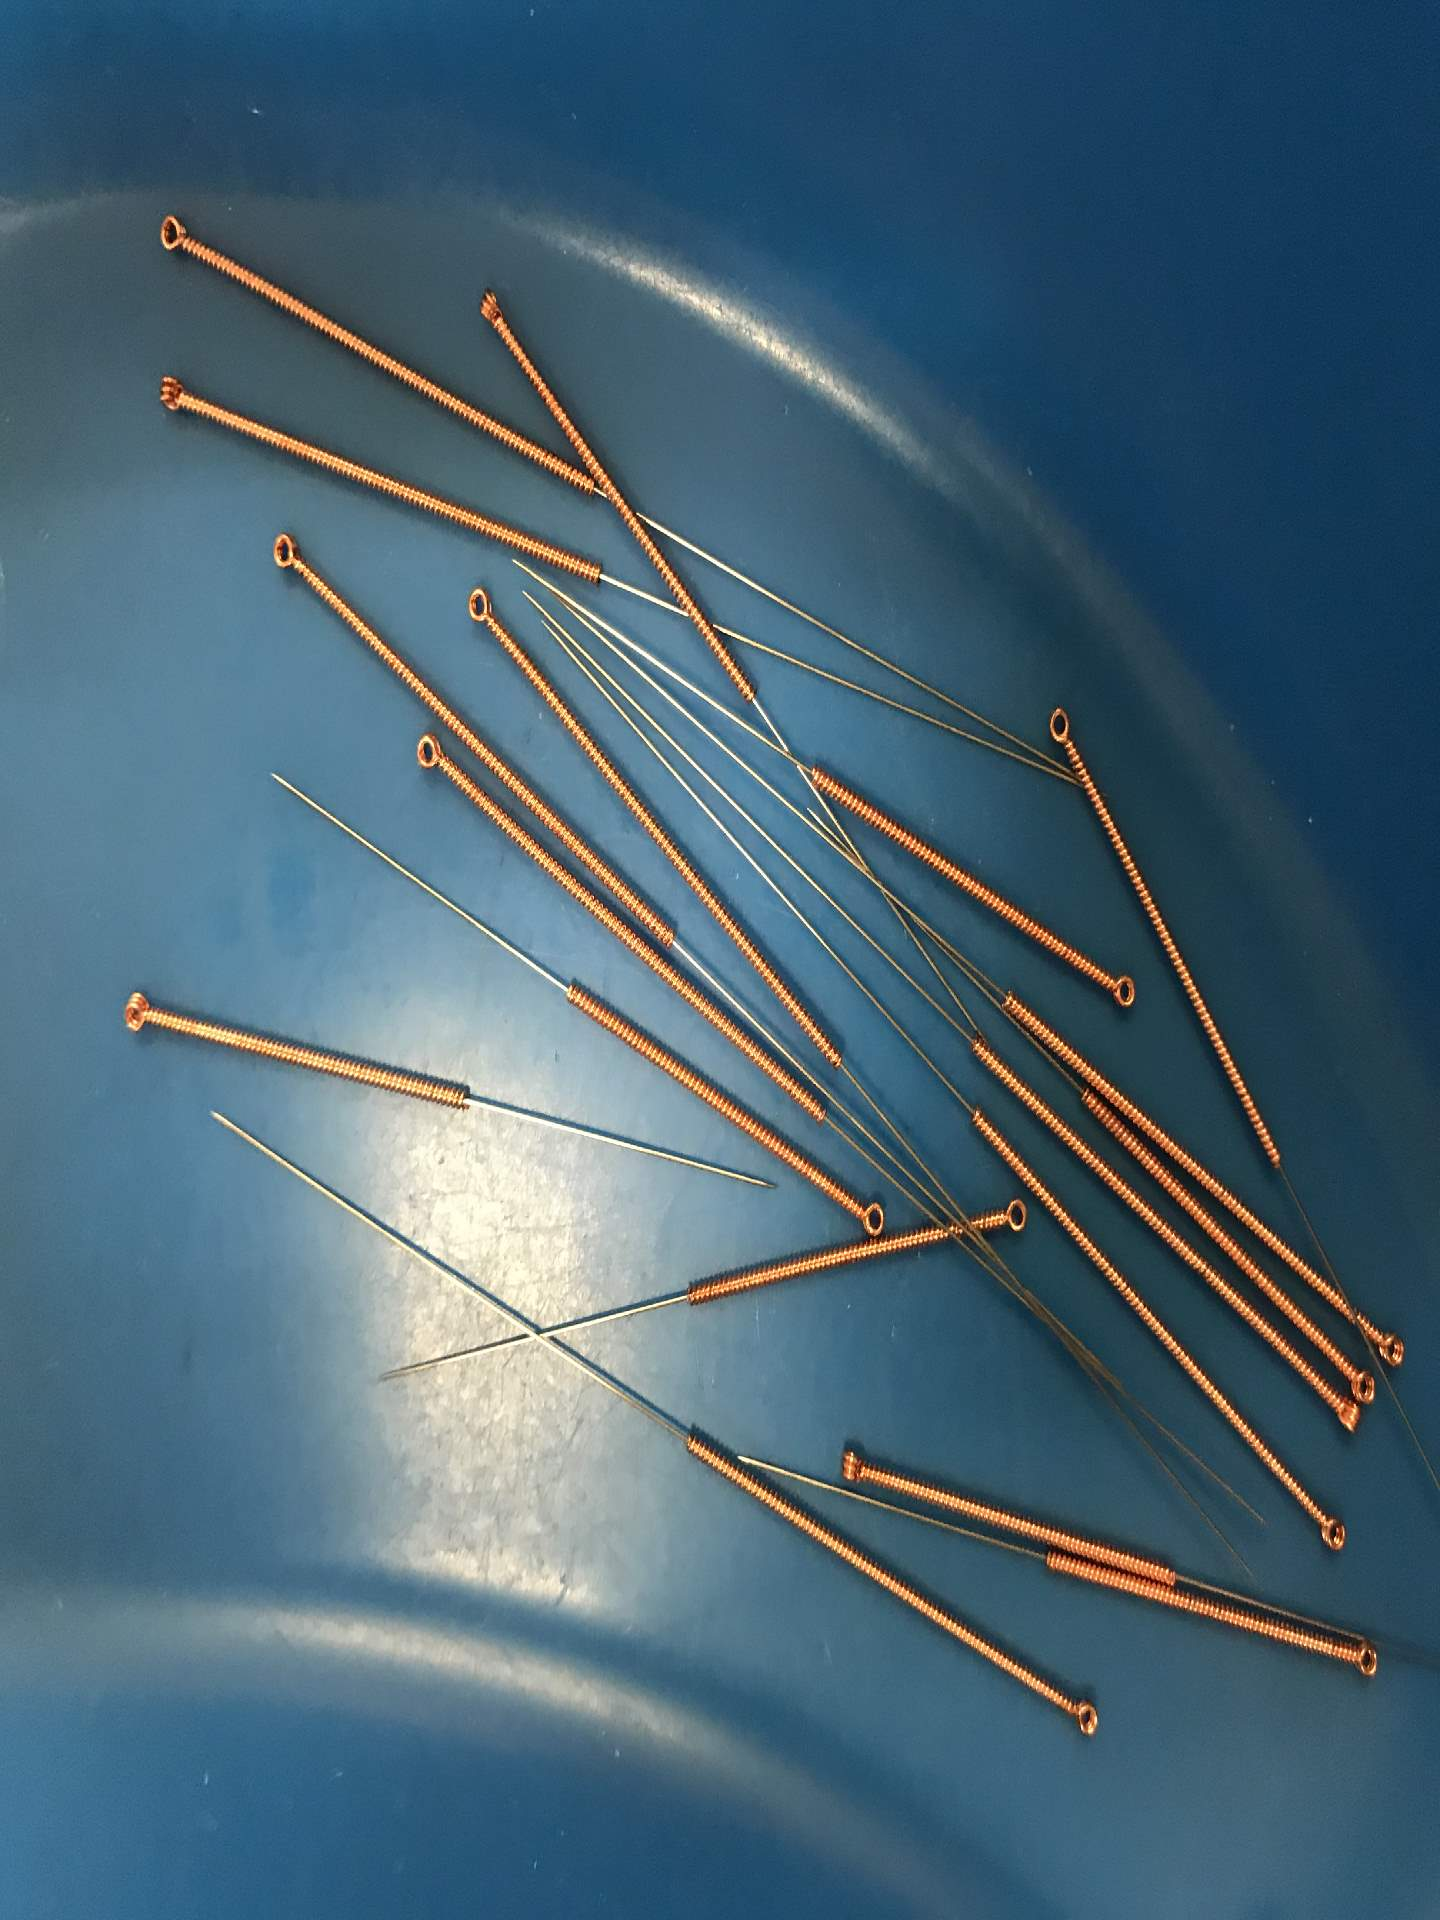needle: (144, 206, 197, 266), (1339, 1633, 1395, 1689), (259, 522, 312, 581), (110, 981, 160, 1043), (145, 364, 197, 423), (1095, 965, 1150, 1019), (1062, 1692, 1115, 1748), (467, 280, 517, 339), (827, 1438, 877, 1495), (1039, 695, 1085, 757), (455, 578, 504, 635), (402, 726, 451, 782), (1308, 1503, 1354, 1562), (1370, 1320, 1417, 1376), (986, 1191, 1038, 1240), (838, 1194, 889, 1240), (1343, 1359, 1386, 1404), (1325, 1394, 1361, 1439)
